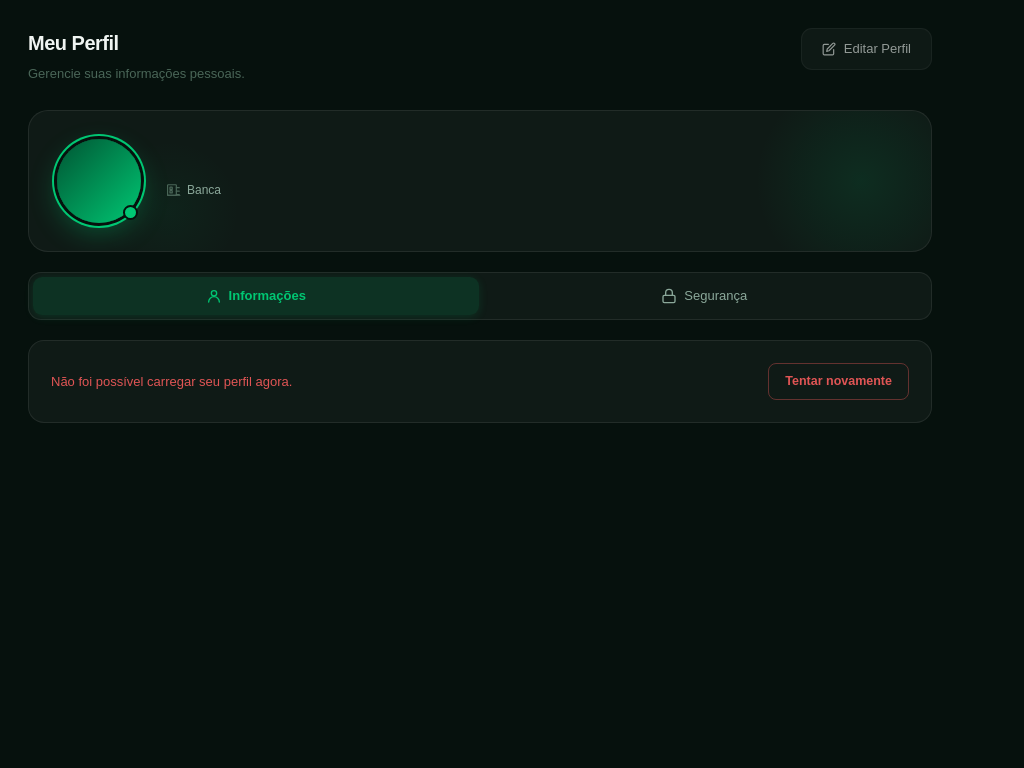
Test: PerfilPage › mostra erro explícito com "Tentar novamente" quando o carregamento inicial falha, e recupera ao clicar
Expected: the message shows "Não foi possível carregar seu perfil", [51,374,292,389]
Click the button "Tentar novamente" at (839, 381), box [768,363,909,400]
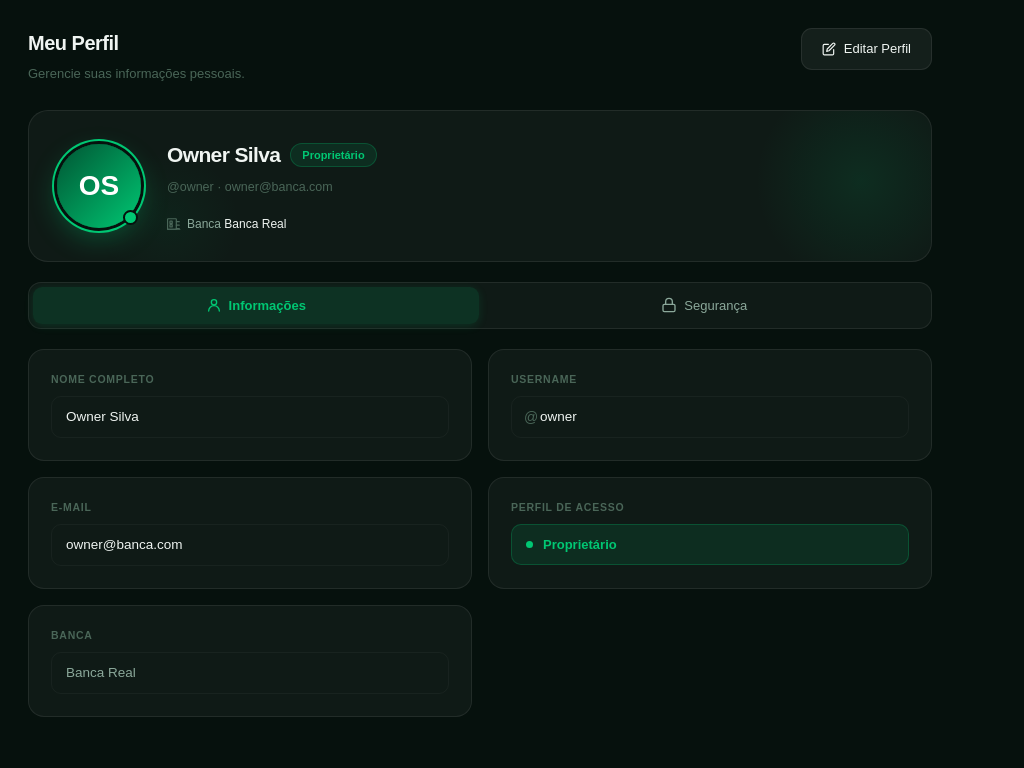
Result: the field showing "Owner Silva" is shown at [51,396,449,438]
